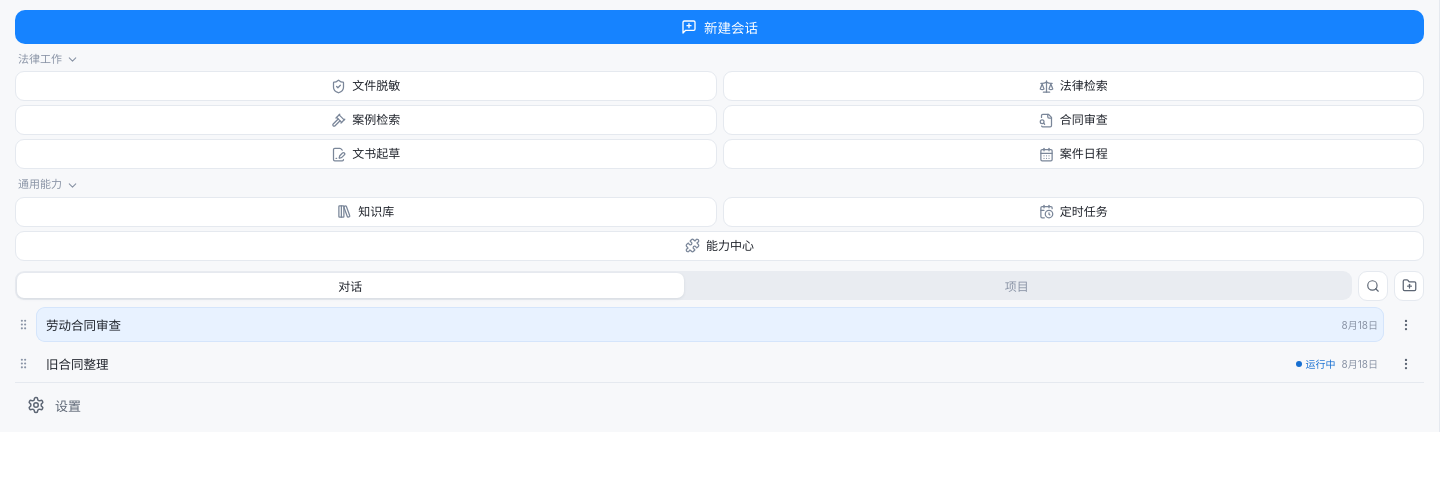
Scenario: clicking a not-yet-built feature explains it is coming
The width and height of the screenshot is (1440, 485).
Click the button "案件日程" at (1073, 154), box [722,139,1424,169]
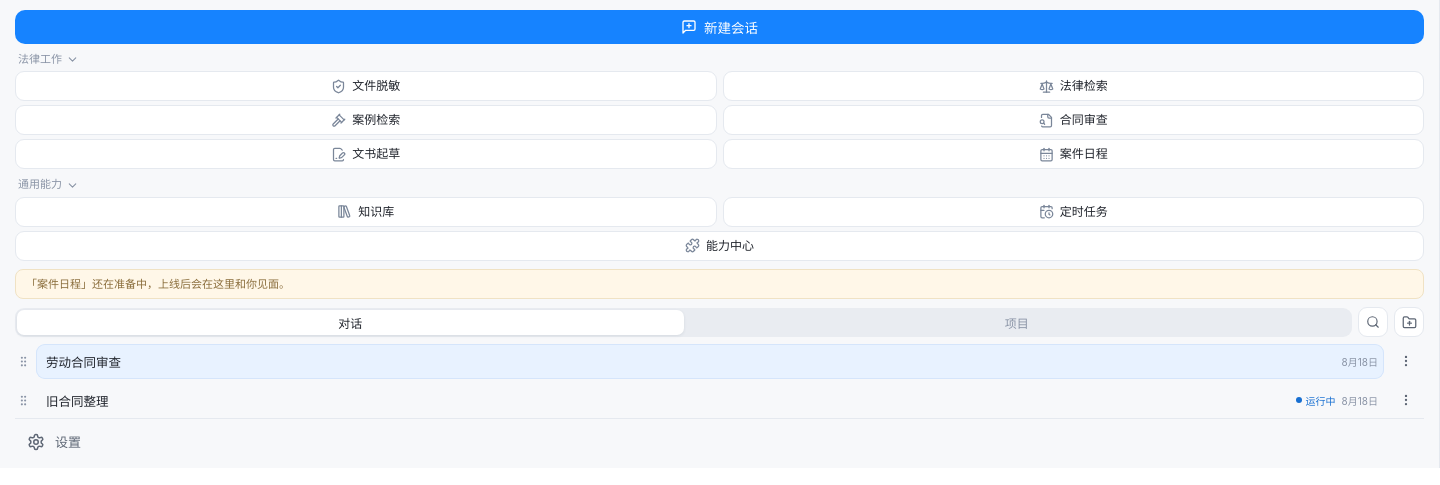
Expected: the message shows "案件日程", [26,277,290,291]
Expected: the message shows "准备中", [15,269,1424,299]
